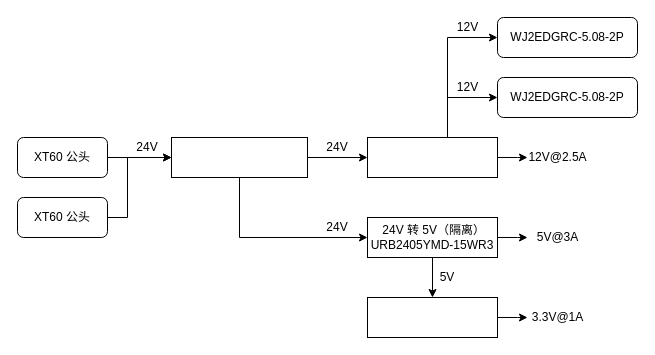
This 655x355 diagram has some shape labels left out. The shapes that lost their labels are listed below. From the top down, each one's centre as x and y in pixels, then its label:
(239,157): 防过压、防反接电路
(432,157): 24V 转 12V URB2412LD-30WR3
(432,317): 5V 转 3.3V AMS1117-3.3
